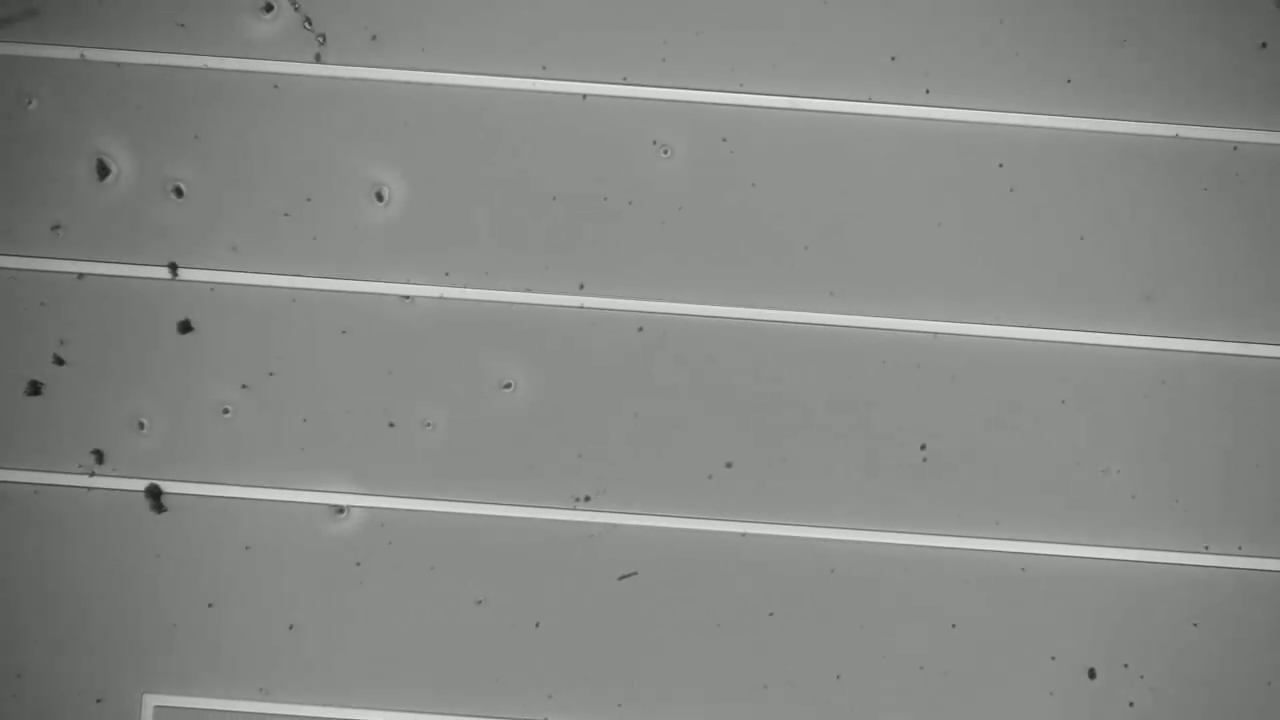stains_enbedded: (143, 468, 177, 517), (160, 255, 188, 291)
